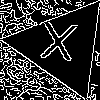X: (37, 21, 79, 70)
